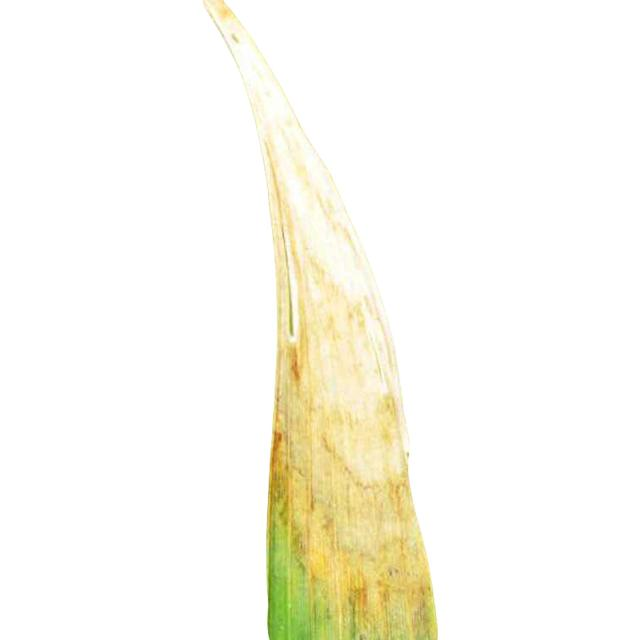Leaf scald: (139, 17, 494, 640)
